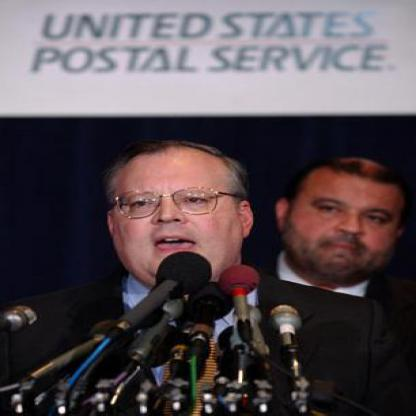face: (110, 143, 243, 289), (291, 160, 408, 280)
